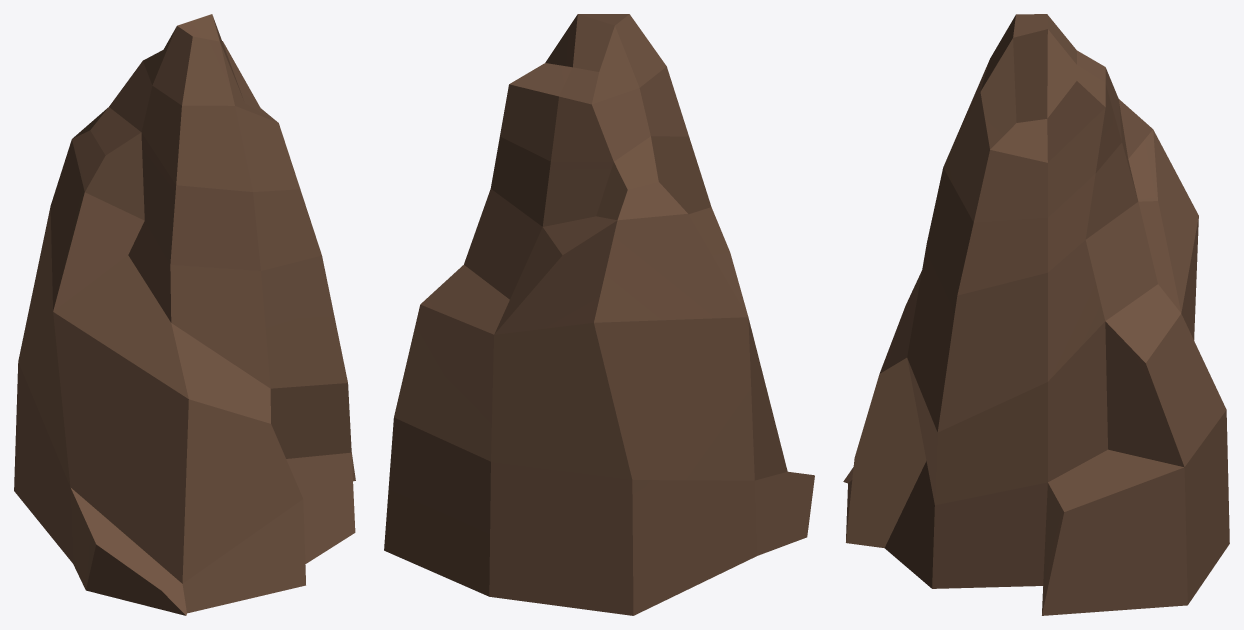
Rendered from ST_Rock_C.fbx.
The picture shows the model from 3 angles, left to right: view 1: azimuth 30°, elevation 25°; view 2: azimuth 150°, elevation 25°; view 3: azimuth 270°, elevation 25°; orthographic projection. The views are drawn at different scales.
Parts seen in each view (by area): view 1: ST_Rock_C; view 2: ST_Rock_C; view 3: ST_Rock_C.
Boxes of the visible parts, x1,y1,x2,y2 form: ST_Rock_C: (14, 14, 355, 615); ST_Rock_C: (384, 14, 814, 615); ST_Rock_C: (843, 14, 1229, 615).
Size of the model in its own units: 11.34 by 17.17 by 11.67.
